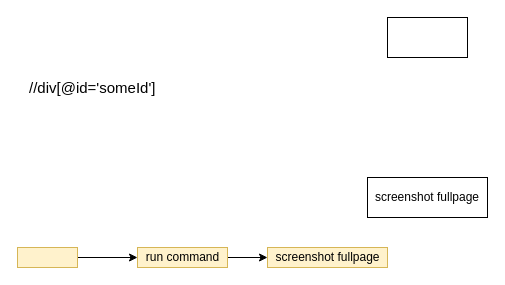
The diagram is 505 pixels wide and 285 high, and some of its shapes have lost their labels. Here are the shapes that lost their labels. From the top down, the centre of each, then its label:
the point at 427,37: Elements
the point at 47,257: dev-tools
